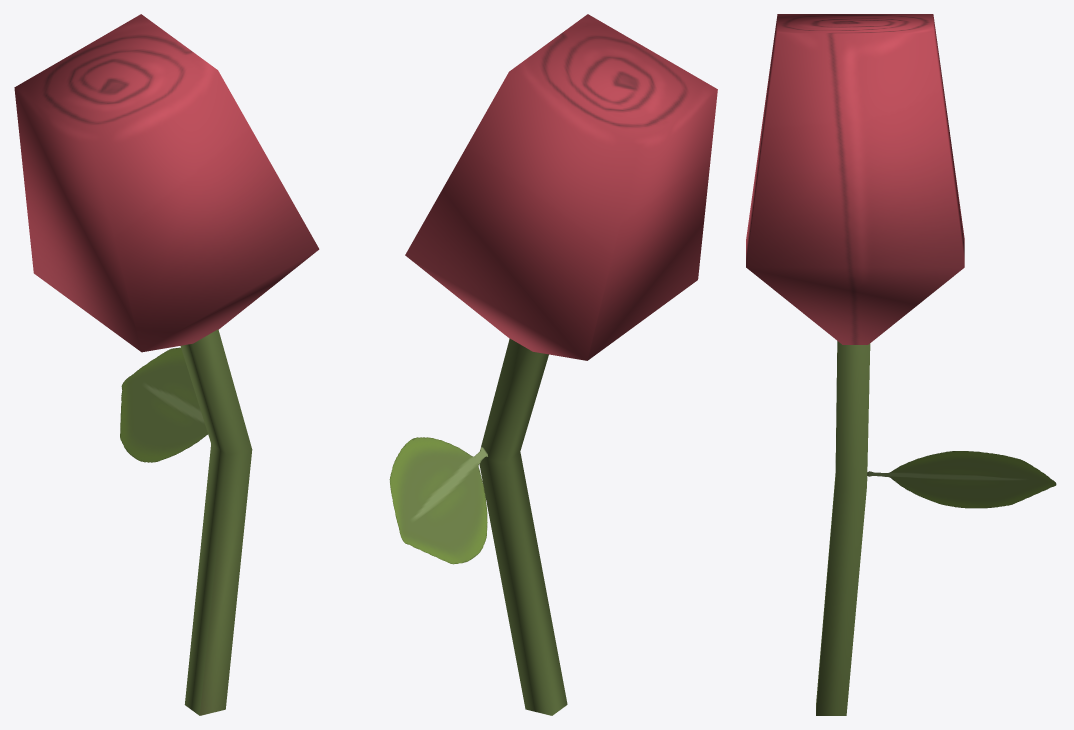
Rendered from Flor_Rosa.fbx.
The picture shows the model from 3 angles, left to right: view 1: azimuth 30°, elevation 25°; view 2: azimuth 150°, elevation 25°; view 3: azimuth 270°, elevation 25°; orthographic projection. The views are drawn at different scales.
Visible parts, largest first — view 1: Flor_Rosa; view 2: Flor_Rosa; view 3: Flor_Rosa.
Part boxes in pixels (<box>): Flor_Rosa: <box>14,14,319,715</box>; Flor_Rosa: <box>389,14,717,715</box>; Flor_Rosa: <box>746,14,1056,715</box>.
Bounding box in the file's own units: 18.29 × 52.08 × 22.14.
